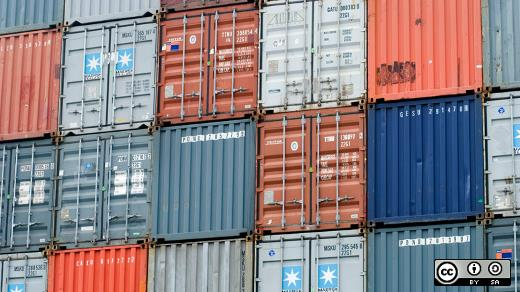container_door: (257, 109, 365, 232), (158, 1, 257, 124), (54, 17, 154, 135), (52, 130, 152, 247), (261, 1, 365, 110), (255, 230, 366, 291), (1, 139, 53, 252)
container_no_door: (367, 95, 483, 224), (154, 119, 255, 240), (365, 1, 485, 98), (368, 221, 490, 292), (1, 29, 58, 137), (147, 239, 255, 292), (47, 247, 149, 292)
